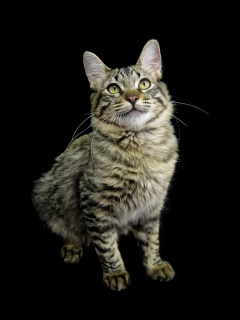Cat: (36, 39, 209, 288)
